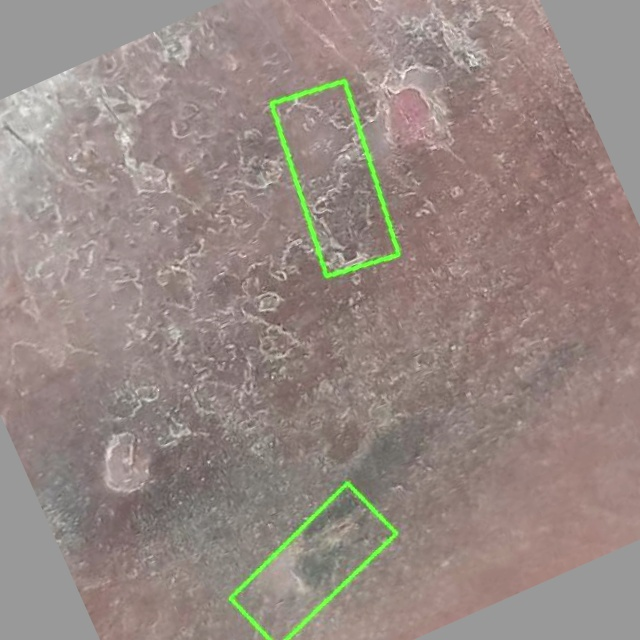Eczema: (229, 484, 395, 639), (271, 81, 399, 277)
